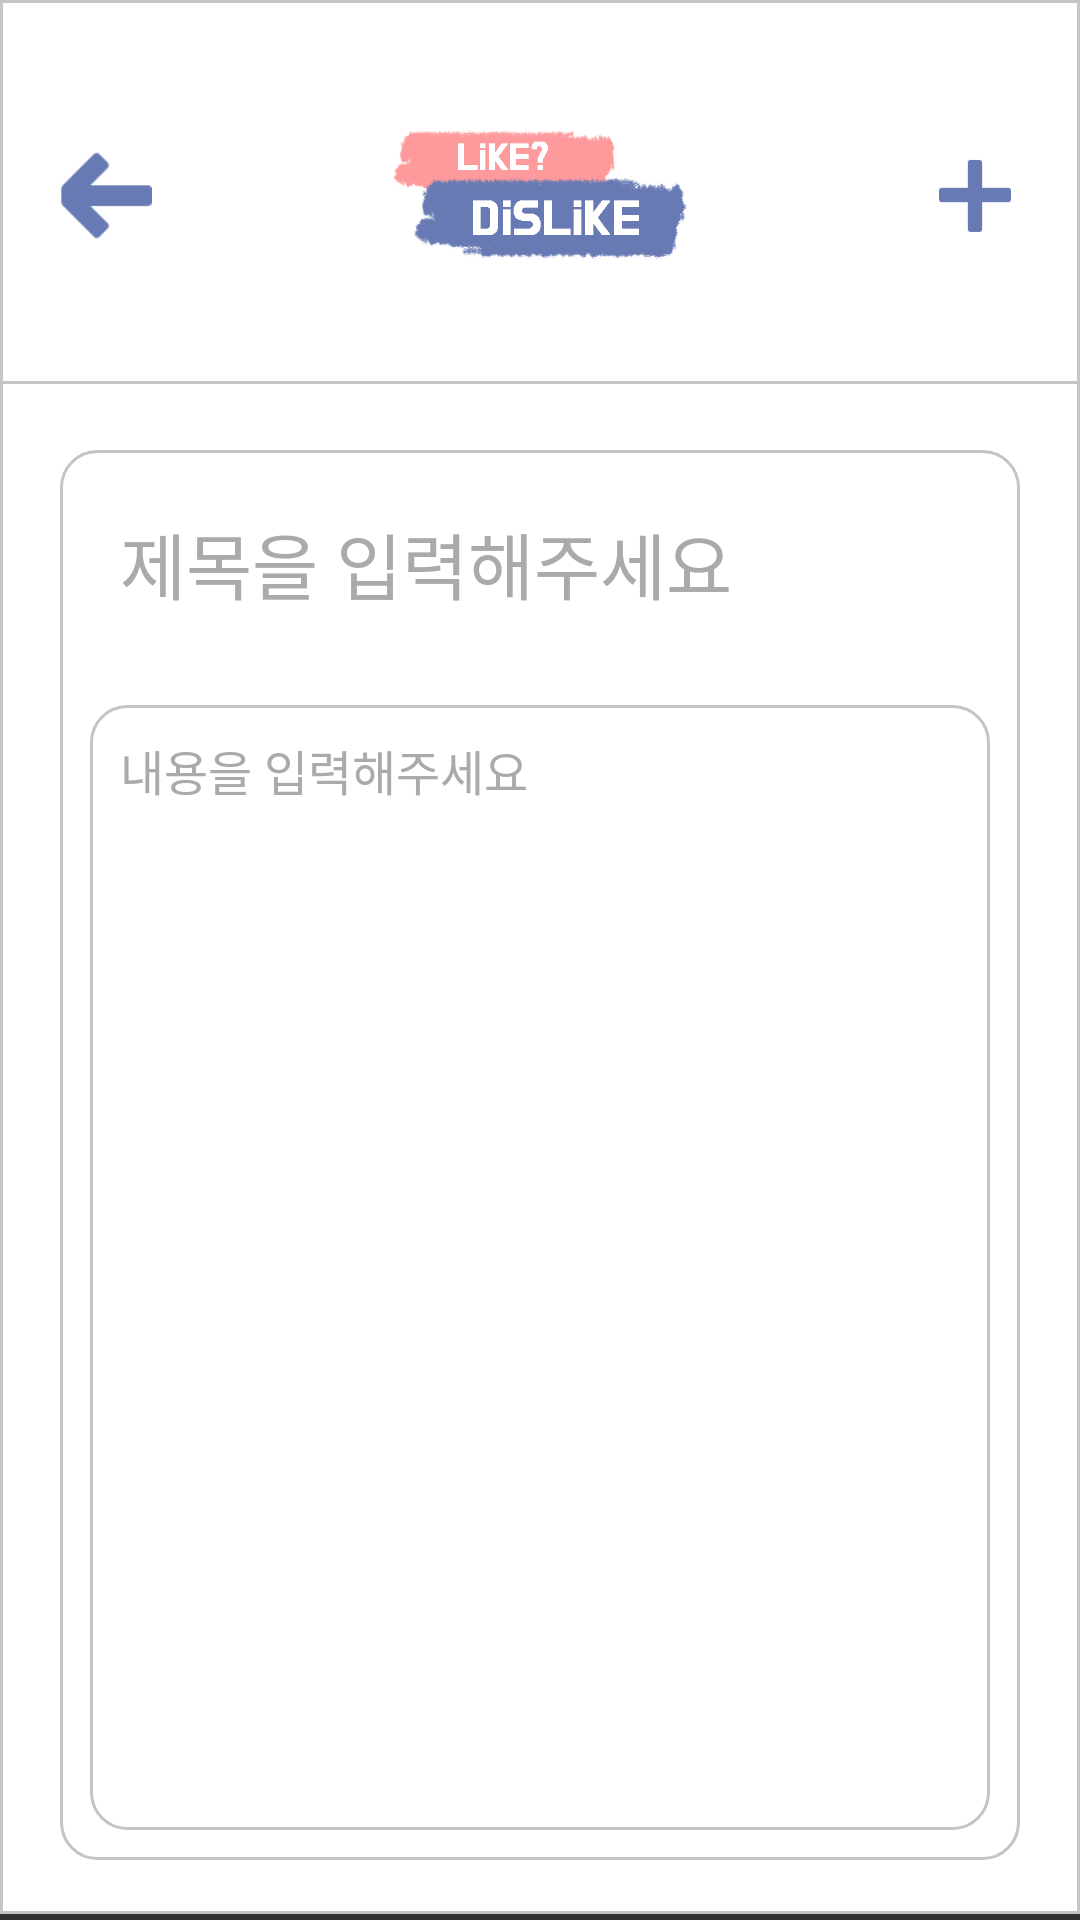

Named icons in this screenshot (1080x1920) and their bounding boxes, [x1, y1, x2, y2]:
back: [61, 153, 152, 239]
plus: [939, 160, 1011, 232]
